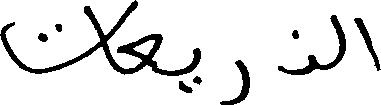X: (0, 2, 84, 78), (119, 0, 159, 79), (86, 1, 113, 73), (281, 25, 316, 79), (356, 13, 380, 75), (222, 55, 250, 104), (332, 10, 345, 72), (191, 43, 200, 97)
